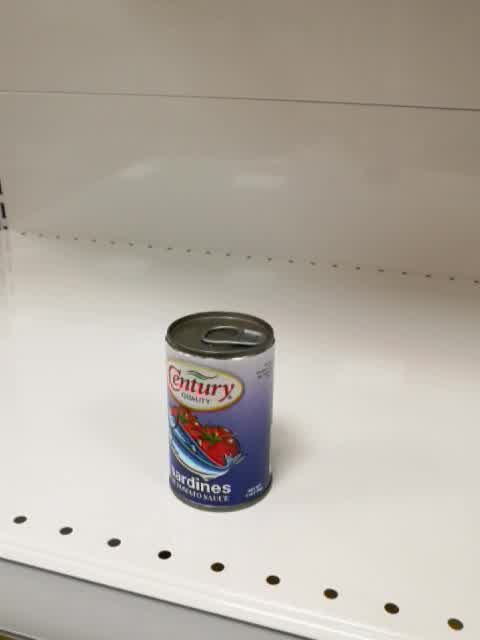sardine: (166, 310, 276, 515)
